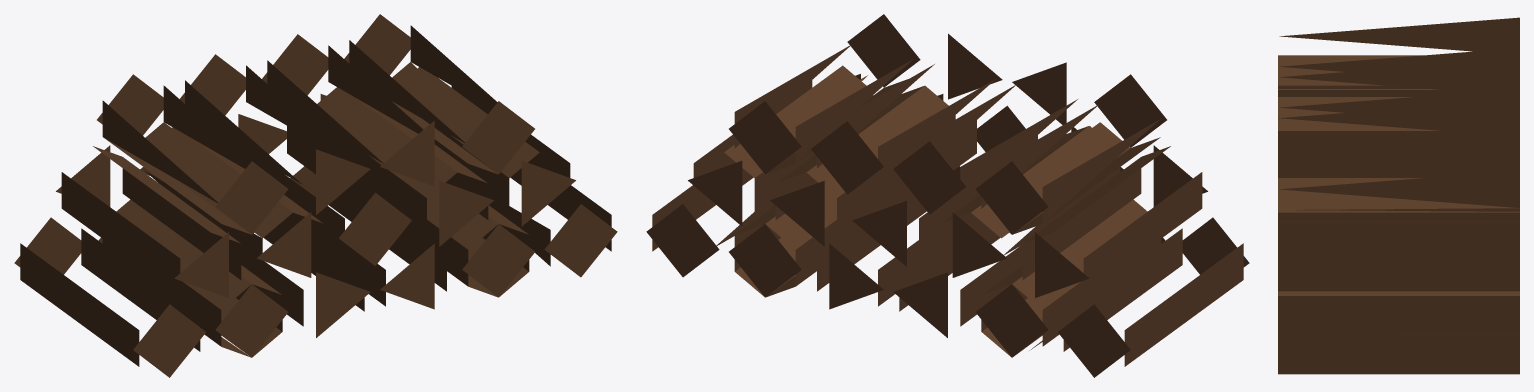
The model's file is prop_firewood_lod1.glb.
3 renders of one model, left to right at view 1: azimuth 30°, elevation 25°; view 2: azimuth 150°, elevation 25°; view 3: azimuth 270°, elevation 25°, orthographic.
Visible parts, largest first — view 1: prop_firewood_lod1; view 2: prop_firewood_lod1; view 3: prop_firewood_lod1.
Part boxes in pixels (x1,y1,x2,y2): prop_firewood_lod1: [14, 14, 617, 377]; prop_firewood_lod1: [646, 14, 1249, 377]; prop_firewood_lod1: [1278, 17, 1519, 374].
Size of the model in its own units: 1.65 by 0.64 by 0.7.
